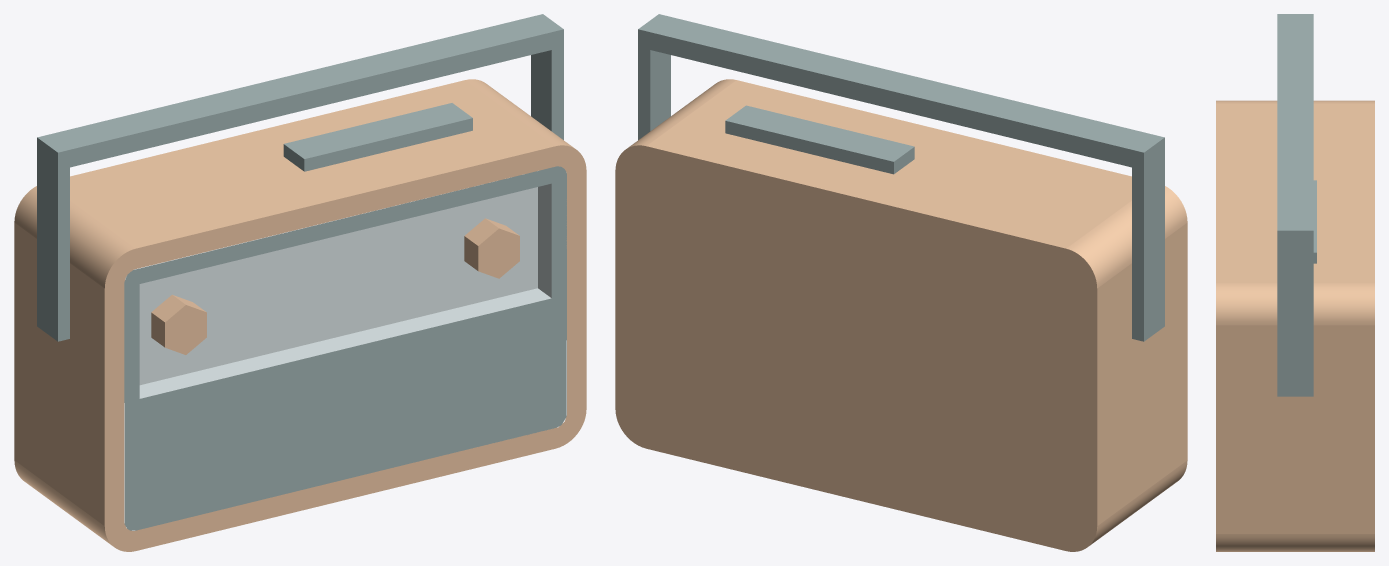
Rendered from radio.glb.
The picture shows the model from 3 angles, left to right: view 1: azimuth 30°, elevation 25°; view 2: azimuth 150°, elevation 25°; view 3: azimuth 270°, elevation 25°; orthographic projection. The views are drawn at different scales.
Visible parts, largest first — view 1: radio(Clone); view 2: radio(Clone); view 3: radio(Clone).
Boxes of the visible parts, x1,y1,x2,y2 form: radio(Clone): (14, 14, 586, 551); radio(Clone): (615, 14, 1187, 551); radio(Clone): (1216, 14, 1374, 551).
Bounding box in the file's own units: 0.315 × 0.2282 × 0.0975.
